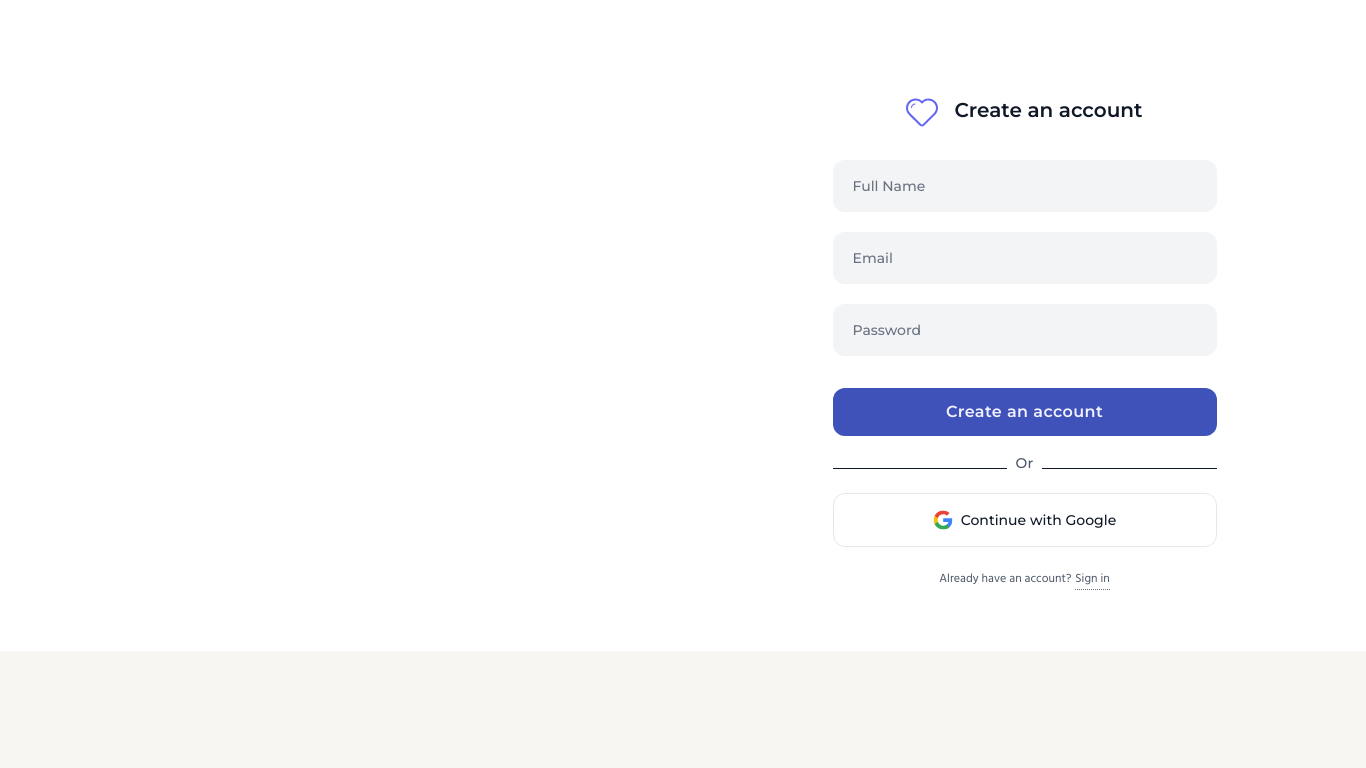
Scenario: SignUp › shows validation errors for empty fields
Step 1. Click the button "Create an account" → (1024,412), box [832,388,1216,436]
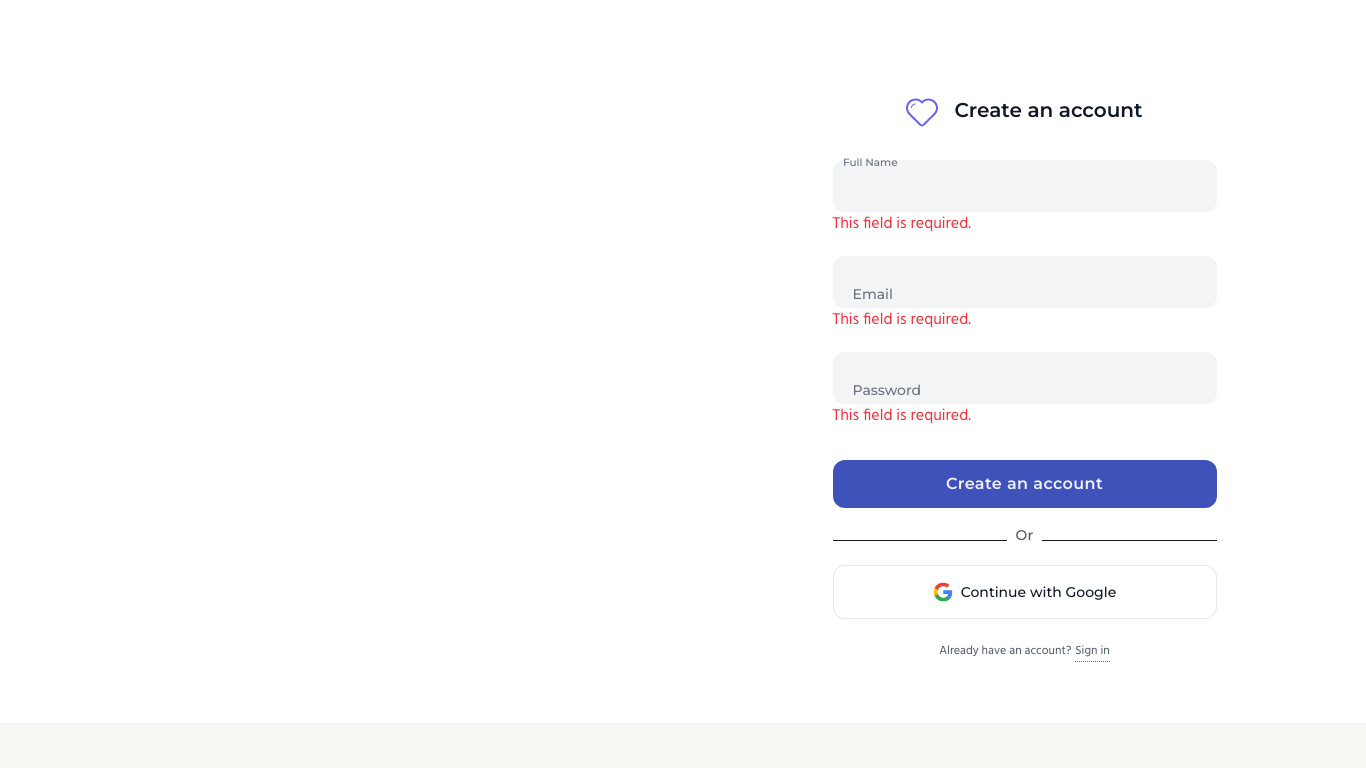
Now the text with test id "email-input-validation-error" reads "This field is required.", box [832,307,971,333]
Now the text with test id "name-input-validation-error" reads "This field is required.", box [832,211,971,237]
